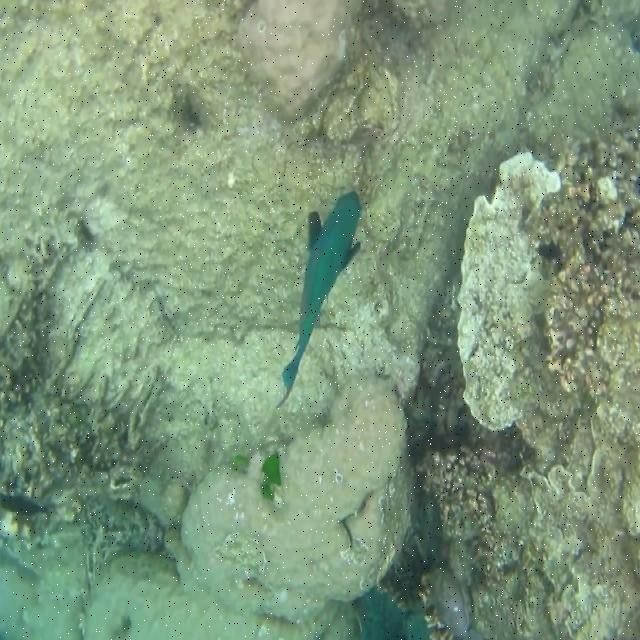fish: (276, 191, 361, 407)
reefs: (79, 374, 416, 638), (454, 102, 638, 472)
